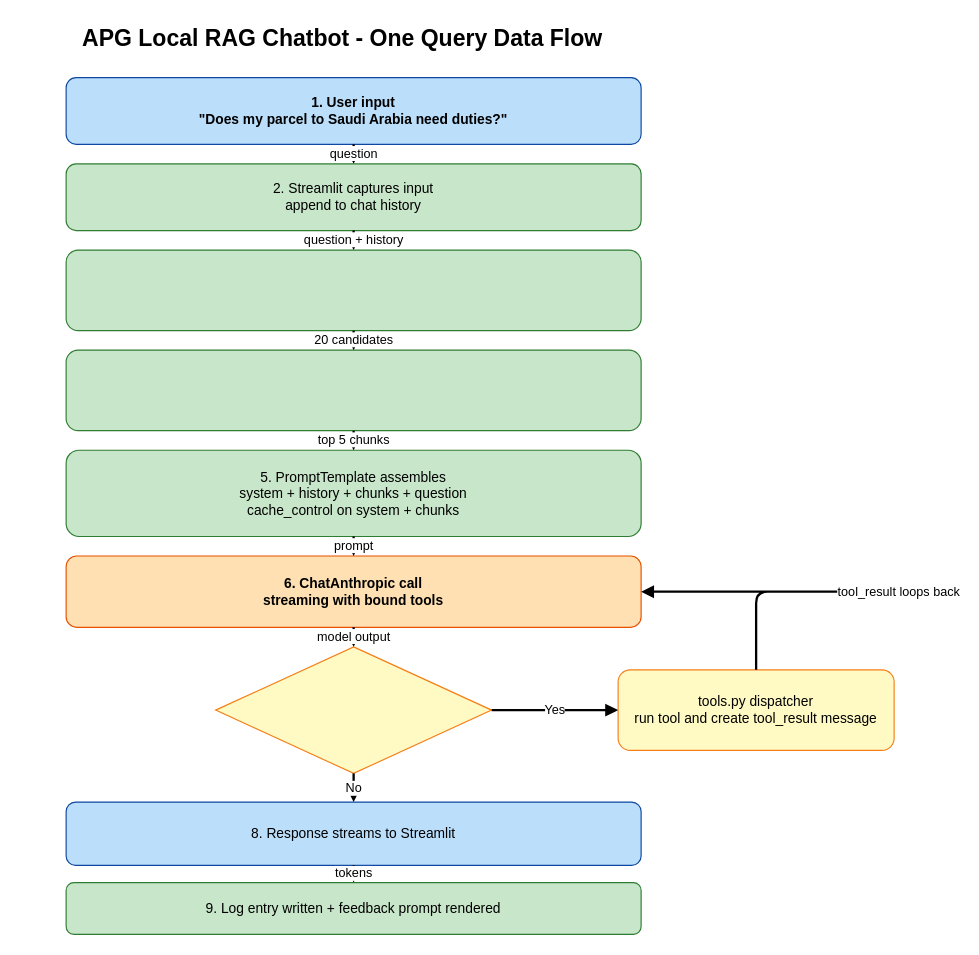
Some shapes in this 979 by 955 pixel diagram are drawn without their labels. Each missing label, with the centre of its shape:
3. EnsembleRetriever BM25 + FAISS across all 9 indexes returns top 20 candidates: point (353, 290)
4. CrossEncoderReranker re-scores 20 candidates returns top 5: point (353, 390)
7. Did model call a tool?: point (353, 709)
